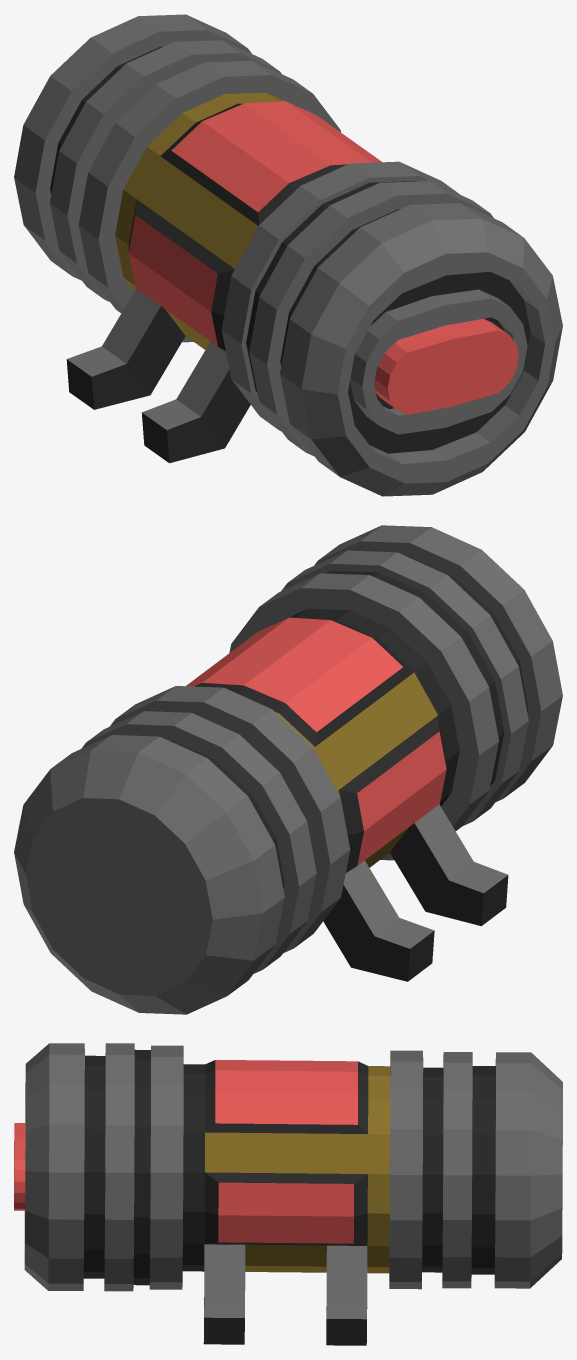
The model's file is container_item.fbx.
The picture shows the model from 3 angles, top to bottom: view 1: azimuth 30°, elevation 25°; view 2: azimuth 150°, elevation 25°; view 3: azimuth 270°, elevation 25°; orthographic projection. The views are drawn at different scales.
Visible parts, largest first — view 1: Cylinder; view 2: Cylinder; view 3: Cylinder.
Part boxes in pixels (<box>): Cylinder: <box>14,14,562,496</box>; Cylinder: <box>14,525,562,1014</box>; Cylinder: <box>14,1043,562,1345</box>.
Size of the model in its own units: 314 by 240 by 530.
